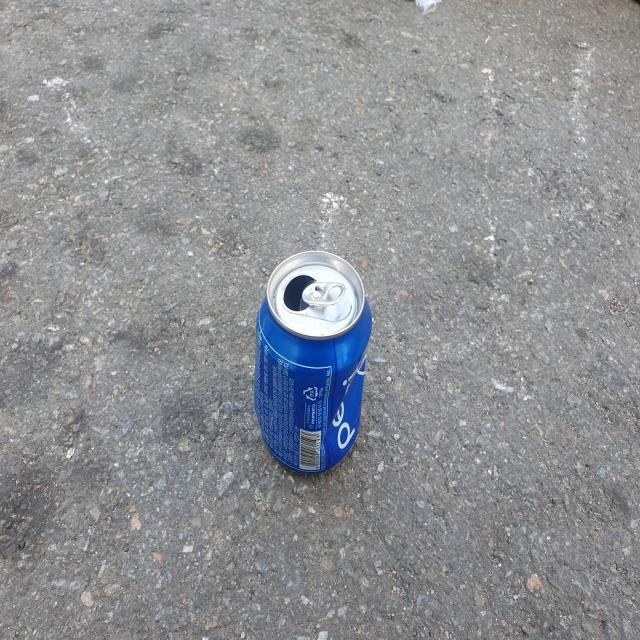can: (254, 251, 372, 474)
